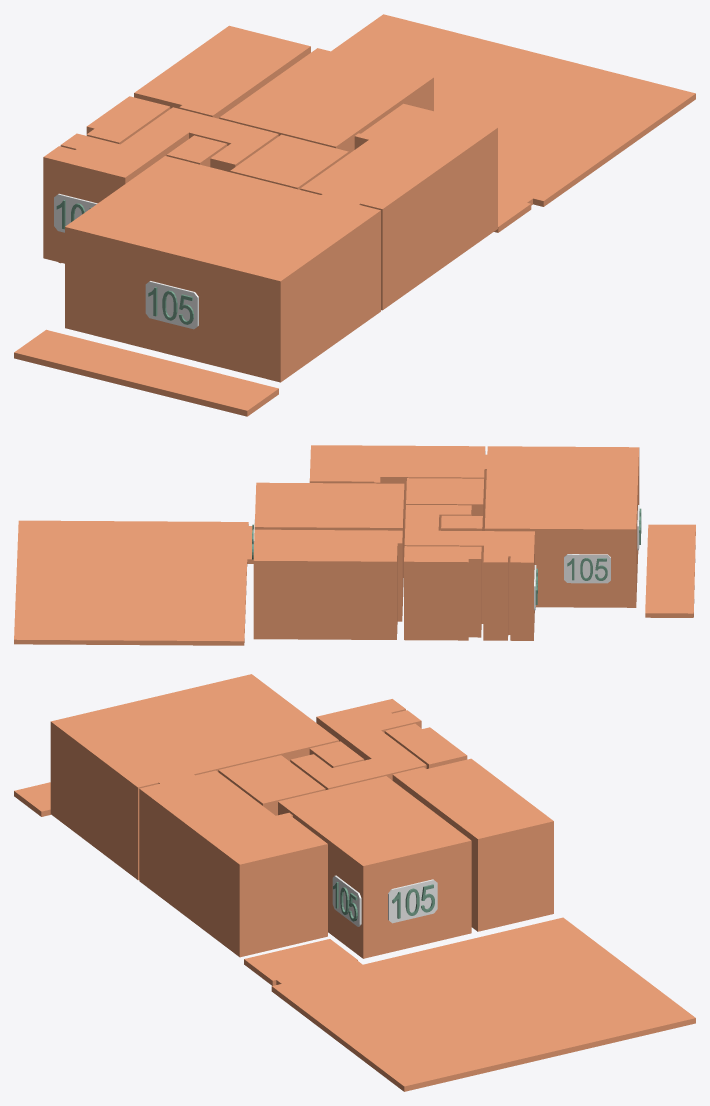
3 views of the same model, one above another, from view 1: azimuth 30°, elevation 25°; view 2: azimuth 150°, elevation 25°; view 3: azimuth 270°, elevation 25° (orthographic). The views are drawn at different scales.
Parts seen in each view (by area): view 1: g_1, g_9, g_0, g_6, g_4, g_8, g_7, g_2, g_5, g_29, g_3, g_21; view 2: g_9, g_1, g_7, g_4, g_5, g_6, g_0, g_8, g_2, g_13, g_3; view 3: g_9, g_1, g_0, g_6, g_7, g_4, g_2, g_5, g_25, g_3, g_8, g_17.
Part boxes in pixels (bbox=[...]): g_1: bbox=[65, 156, 380, 382]; g_9: bbox=[331, 14, 695, 232]; g_0: bbox=[300, 103, 497, 310]; g_6: bbox=[219, 48, 433, 153]; g_4: bbox=[43, 107, 278, 263]; g_8: bbox=[14, 329, 278, 416]; g_7: bbox=[134, 25, 310, 118]; g_2: bbox=[230, 134, 348, 189]; g_5: bbox=[86, 96, 170, 144]; g_29: bbox=[145, 281, 198, 329]; g_3: bbox=[166, 135, 227, 166]; g_21: bbox=[54, 193, 97, 232]; g_9: bbox=[14, 520, 253, 645]; g_1: bbox=[484, 446, 639, 607]; g_7: bbox=[253, 529, 402, 639]; g_4: bbox=[404, 505, 534, 640]; g_5: bbox=[404, 546, 481, 640]; g_6: bbox=[254, 482, 404, 605]; g_0: bbox=[309, 445, 486, 547]; g_8: bbox=[645, 524, 695, 617]; g_2: bbox=[406, 478, 484, 530]; g_13: bbox=[564, 554, 610, 583]; g_3: bbox=[441, 515, 482, 530]; g_9: bbox=[244, 917, 695, 1091]; g_1: bbox=[50, 674, 338, 880]; g_0: bbox=[139, 770, 327, 957]; g_6: bbox=[278, 776, 471, 958]; g_7: bbox=[392, 758, 553, 931]; g_4: bbox=[290, 699, 426, 789]; g_2: bbox=[218, 755, 325, 815]; g_5: bbox=[384, 723, 467, 768]; g_25: bbox=[388, 879, 437, 923]; g_3: bbox=[309, 741, 364, 767]; g_8: bbox=[14, 782, 50, 816]; g_17: bbox=[332, 875, 361, 926].
Bounding box in the file's own units: 20.68 × 2.74 × 17.17.
